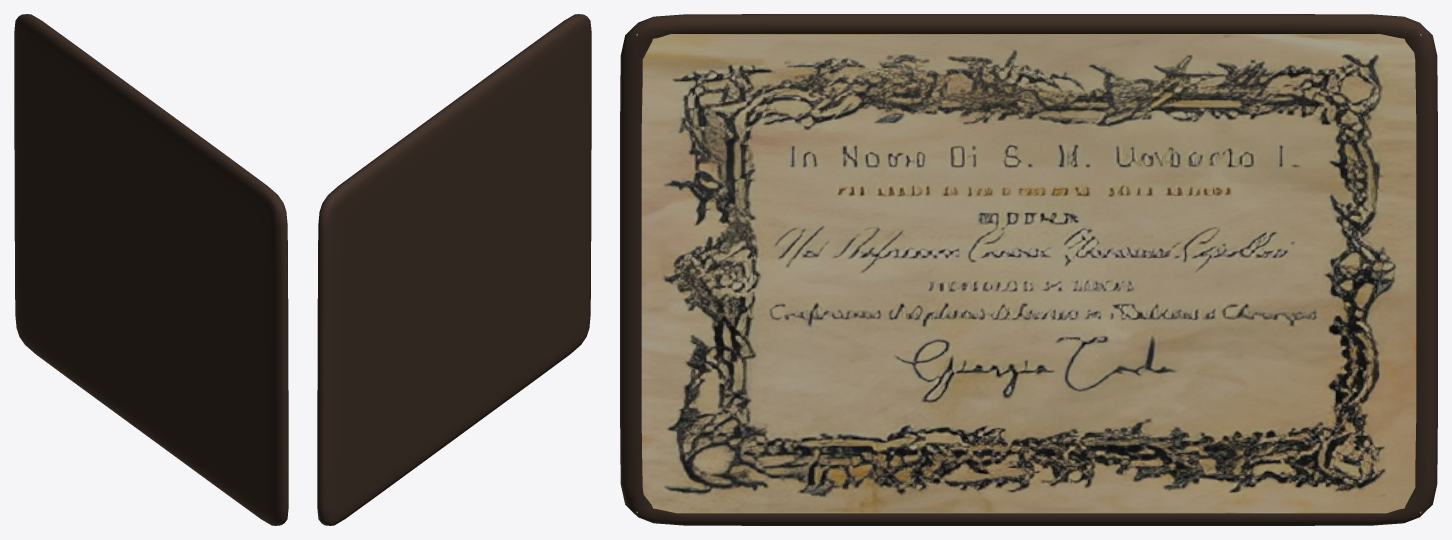
File: attestato.fbx
The picture shows the model from 3 angles, left to right: view 1: azimuth 30°, elevation 25°; view 2: azimuth 150°, elevation 25°; view 3: azimuth 270°, elevation 25°; orthographic projection. The views are drawn at different scales.
Parts seen in each view (by area): view 1: Cube; view 2: Cube; view 3: Plane, Cube.
Boxes of the visible parts, x1,y1,x2,y2 form: Cube: (14, 14, 288, 525); Cube: (317, 14, 591, 525); Plane: (636, 34, 1421, 513); Cube: (620, 14, 1437, 525).
Bounding box in the file's own units: 2.41 × 61.02 × 88.6.
Materials: 2 (1 with a texture image).
